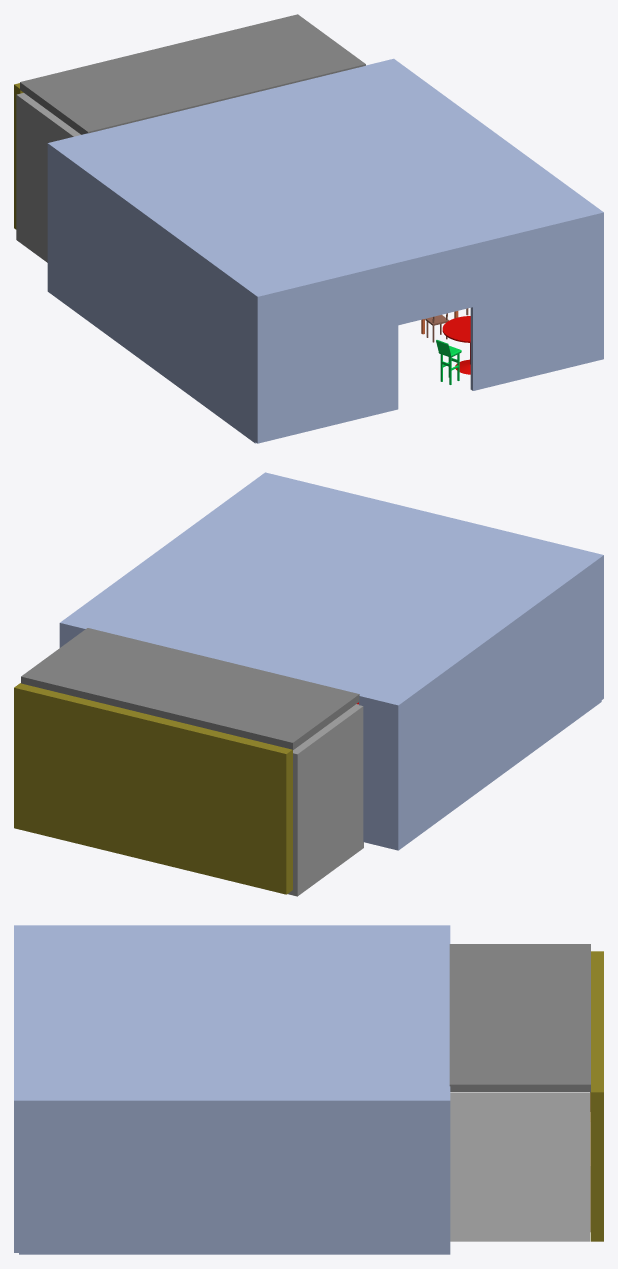
The model's file is Nivell_2_colors.fbx.
The picture shows the model from 3 angles, top to bottom: view 1: azimuth 30°, elevation 25°; view 2: azimuth 150°, elevation 25°; view 3: azimuth 270°, elevation 25°; orthographic projection. The views are drawn at different scales.
Parts seen in each view (by area): view 1: Cube.003, techo_bar, pared.002, messa redonda, tamburete.001; view 2: Cube.003, pared.001, techo_bar, pared.002; view 3: Cube.003, techo_bar, pared, pared.001.
Part boxes in pixels (x1,y1,x2,y2): Cube.003: (47, 58, 603, 443); techo_bar: (20, 14, 365, 134); pared.002: (16, 93, 80, 262); messa redonda: (442, 316, 470, 374); tamburete.001: (436, 340, 461, 384); Cube.003: (59, 472, 603, 850); pared.001: (14, 683, 292, 894); techo_bar: (21, 628, 359, 750); pared.002: (288, 704, 363, 896); Cube.003: (14, 925, 450, 1254); techo_bar: (449, 944, 590, 1092); pared: (450, 1092, 589, 1241); pared.001: (590, 951, 603, 1241).
Bounding box in the file's own units: 1117 × 482 × 1587.
